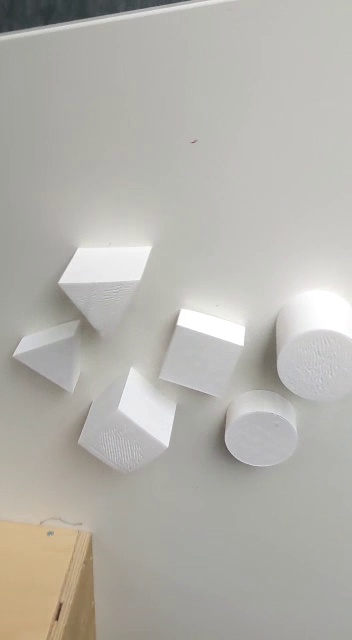Clyinder_short: (217, 388, 302, 471)
Cube: (72, 365, 178, 479)
Cube_short: (150, 306, 250, 402)
Cylinder: (269, 286, 352, 404)
Triangle: (54, 246, 155, 339)
Triangle_short: (9, 310, 87, 402)
